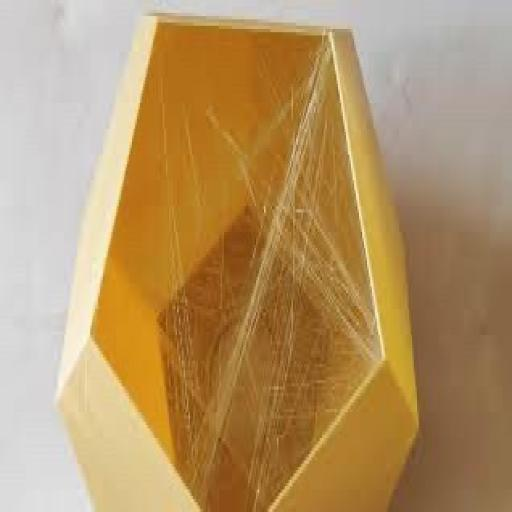stringing: (174, 38, 334, 506), (238, 88, 377, 509), (161, 42, 201, 455), (204, 97, 267, 213)
